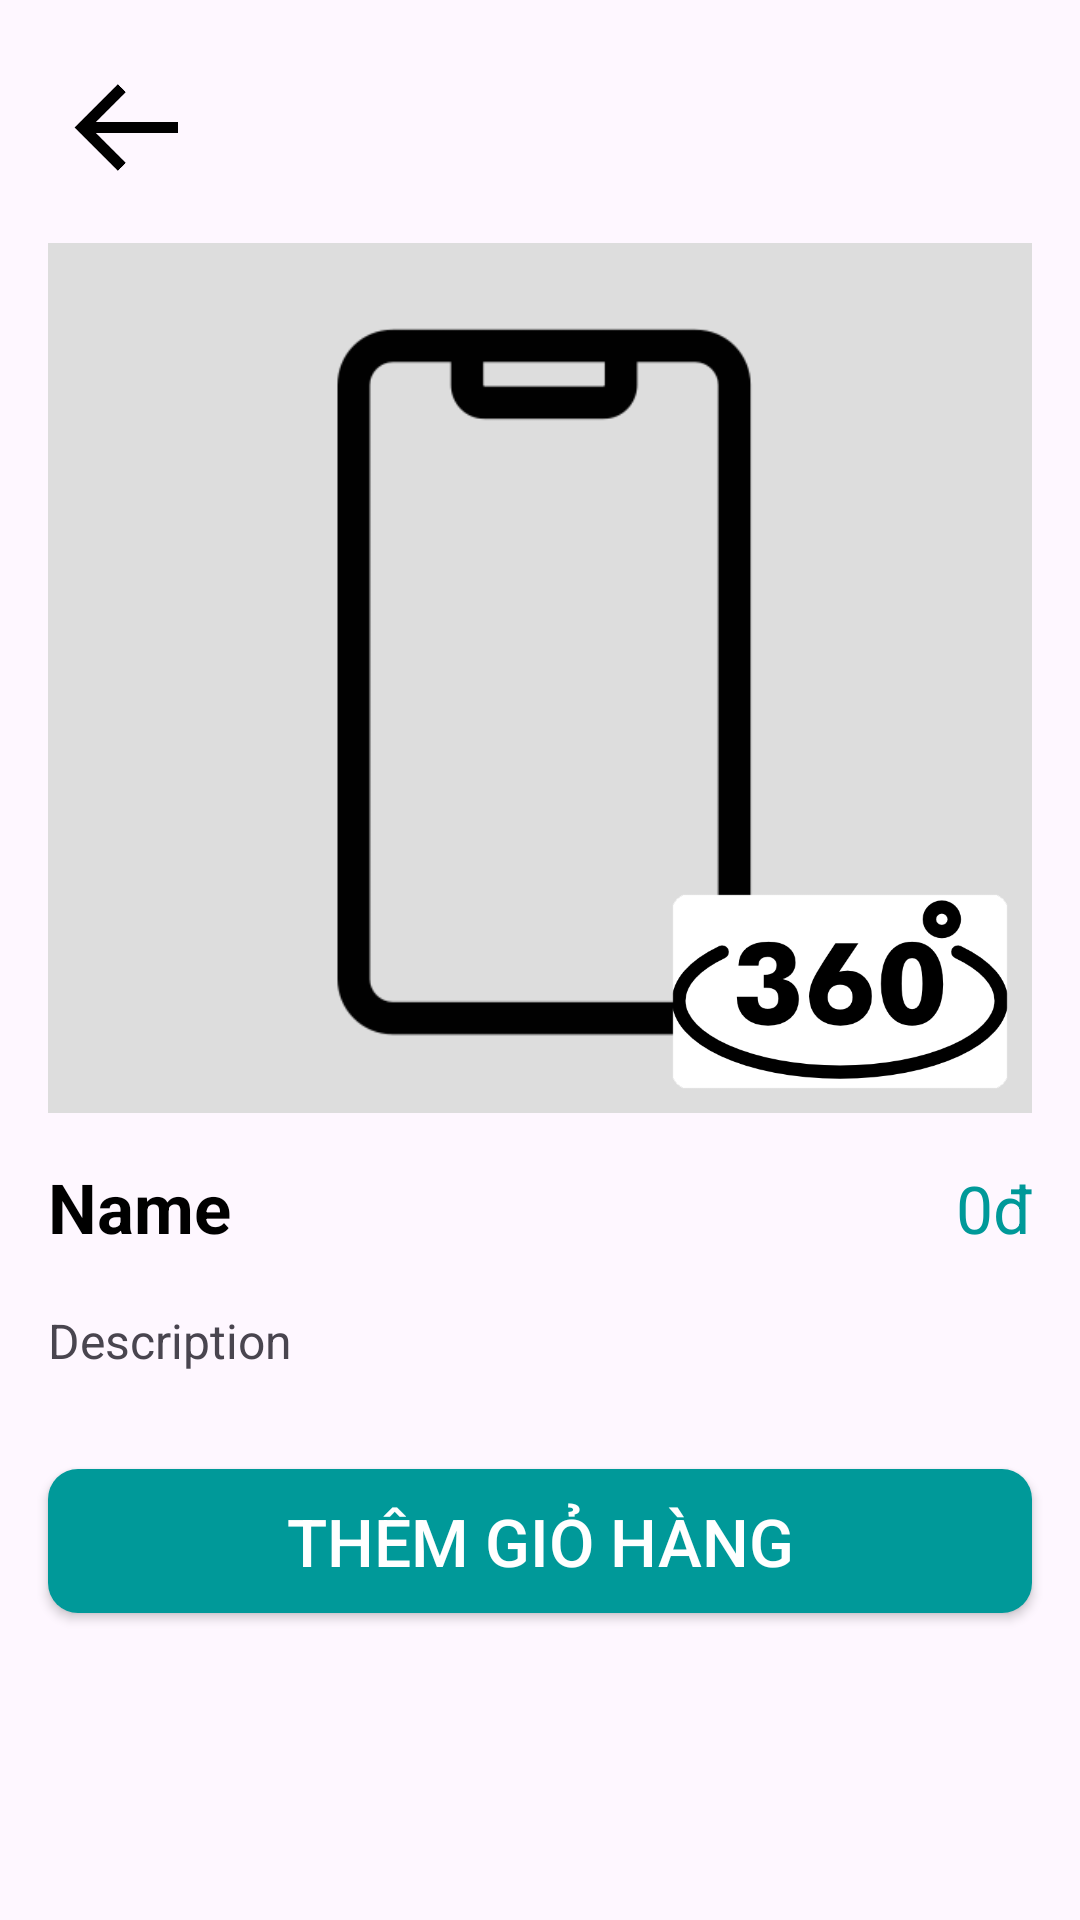

Named icons in this screenshot (1080*1920) and their bounding boxes, (x1, y1, x2, y2):
back arrow: (74, 84, 178, 171)
